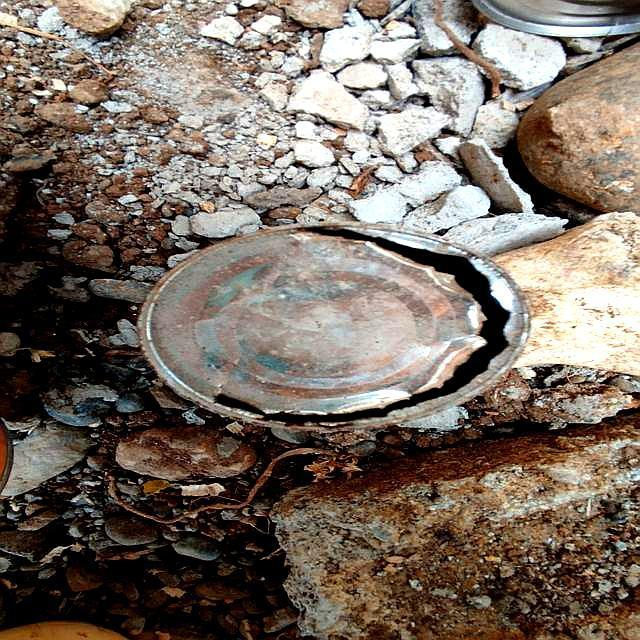Non-biodegradable: (138, 221, 534, 436)
